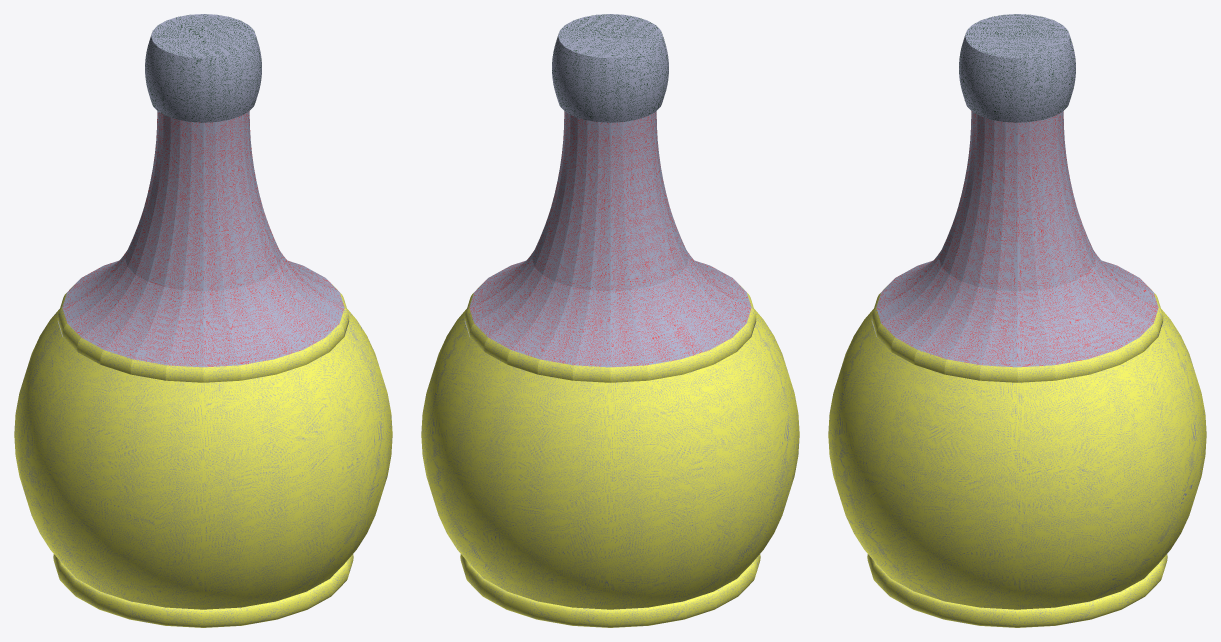
3 renders of one model, left to right at view 1: azimuth 30°, elevation 25°; view 2: azimuth 150°, elevation 25°; view 3: azimuth 270°, elevation 25°, orthographic.
Parts seen in each view (by area): view 1: Model; view 2: Model; view 3: Model.
Part boxes in pixels (x1,y1,x2,y2): Model: (14,14,392,627); Model: (421,14,799,627); Model: (828,14,1206,627).
Size of the model in its own units: 23.2 by 35.85 by 23.2.
